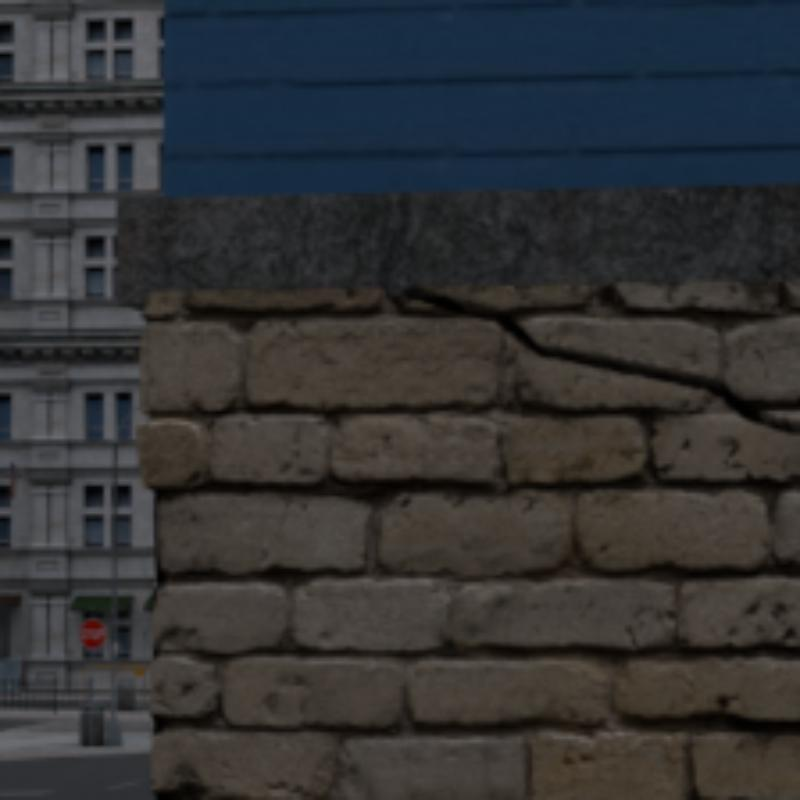pothole: (393, 286, 796, 432)
